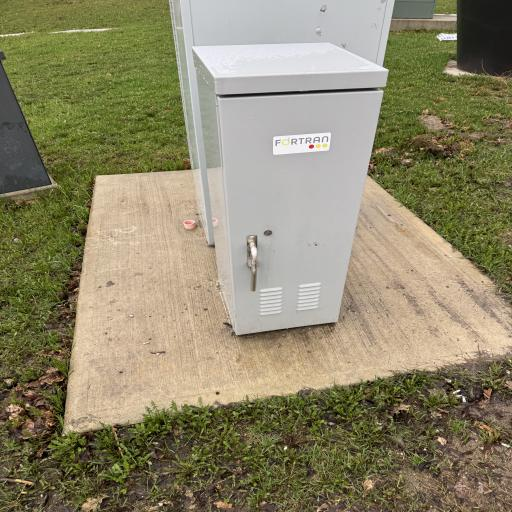Electrical Box: (166, 0, 401, 337)
